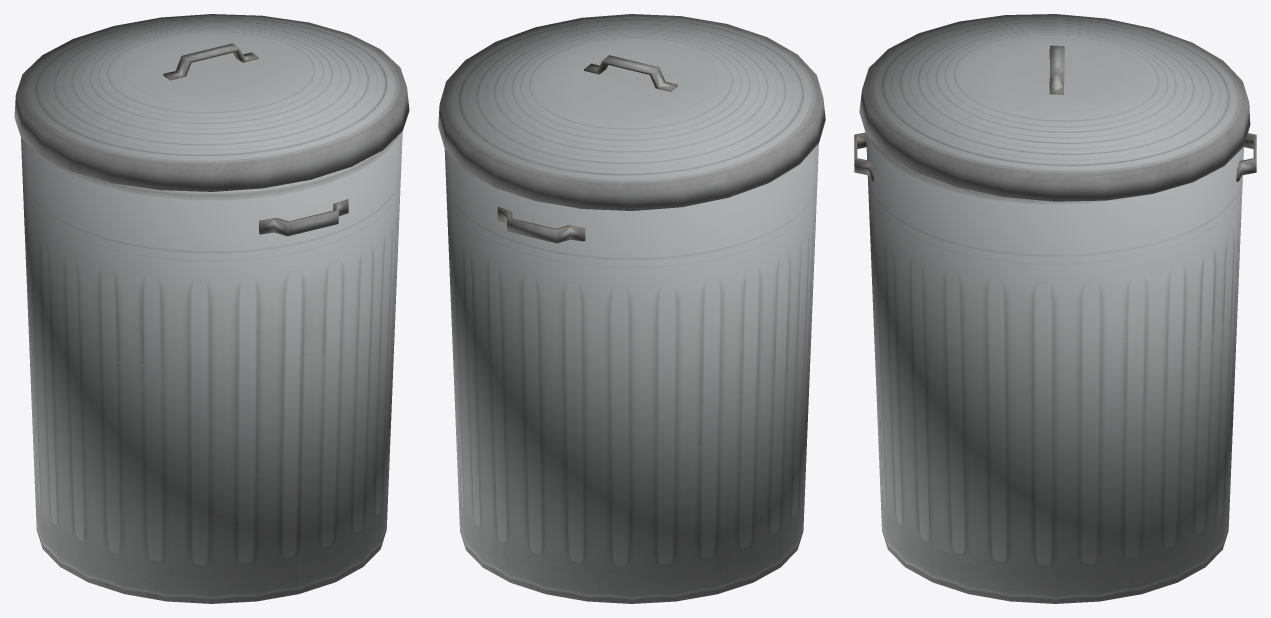
Rendered from trashcan_mesh.glb.
3 renders of one model, left to right at view 1: azimuth 30°, elevation 25°; view 2: azimuth 150°, elevation 25°; view 3: azimuth 270°, elevation 25°, orthographic.
Visible parts, largest first — view 1: Trashcan_Mesh_Trashcan_Mat_0; view 2: Trashcan_Mesh_Trashcan_Mat_0; view 3: Trashcan_Mesh_Trashcan_Mat_0.
Part boxes in pixels (x1=…): Trashcan_Mesh_Trashcan_Mat_0: x1=14, y1=14, x2=409, y2=603; Trashcan_Mesh_Trashcan_Mat_0: x1=438, y1=14, x2=825, y2=603; Trashcan_Mesh_Trashcan_Mat_0: x1=854, y1=14, x2=1256, y2=603.
Size of the model in its own units: 0.6771 by 0.9029 by 0.6963.
1 material, 1 textured.
